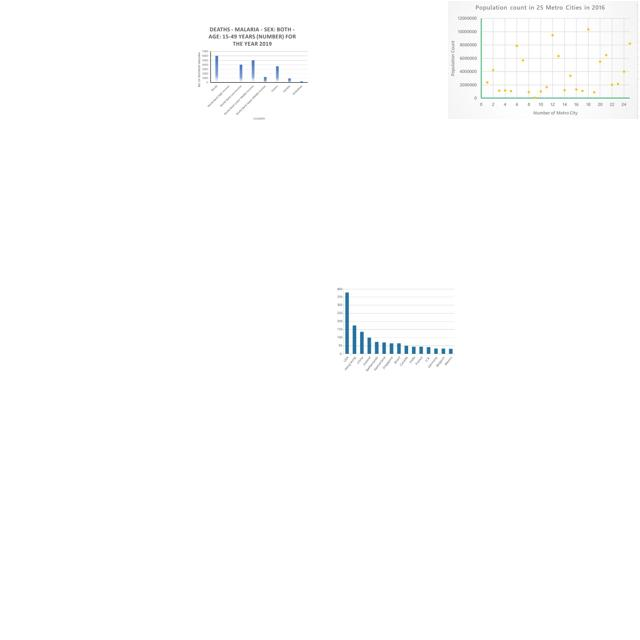Graph: (448, 1, 639, 119), (195, 25, 310, 121), (333, 285, 458, 373)
